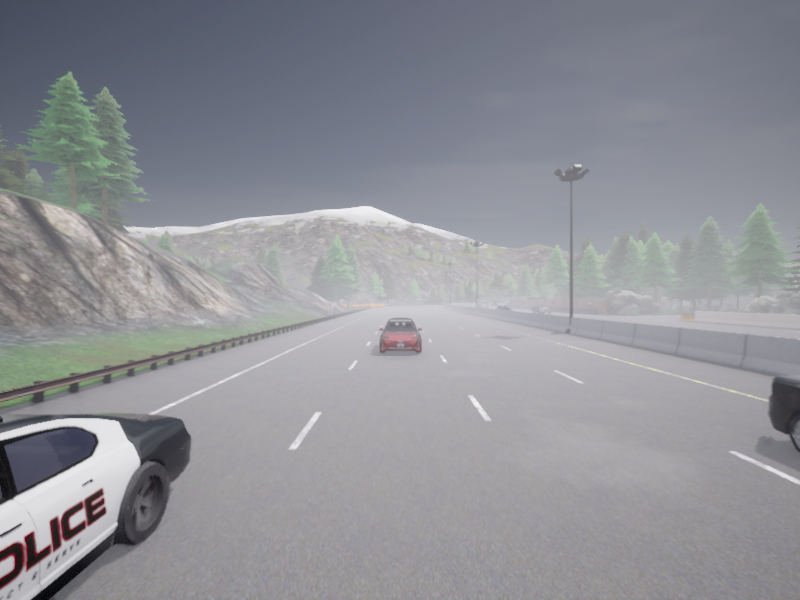vehicle: (0, 413, 191, 599), (767, 374, 799, 452), (379, 318, 421, 353), (531, 304, 550, 313), (477, 300, 488, 307), (494, 305, 508, 309), (506, 305, 511, 310), (493, 301, 498, 305)
